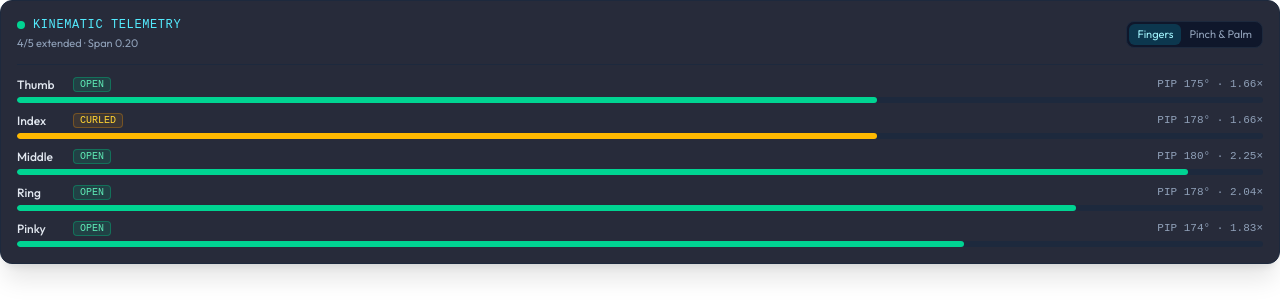
Scenario: HandKinematicsPanel › switches to Pinch & Palm view and highlights an active thumb-index pinch
Click the tab "Pinch & Palm".
click(1221, 34)  # box 1181,24 -> 1260,44
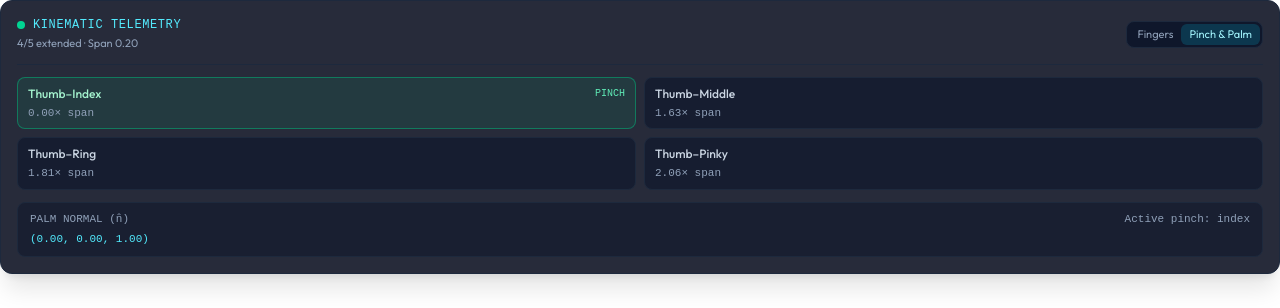
Result: the text "PINCH" is shown at 595,87 -> 625,100
Result: the text "Active pinch: index" is shown at 1125,211 -> 1250,227
Result: the text "PALM NORMAL (n̂)" is shown at 30,211 -> 129,227
